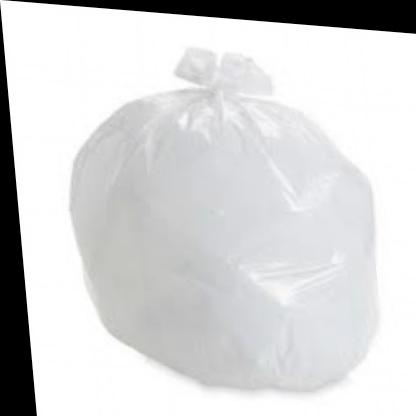trash: (71, 48, 375, 389)
